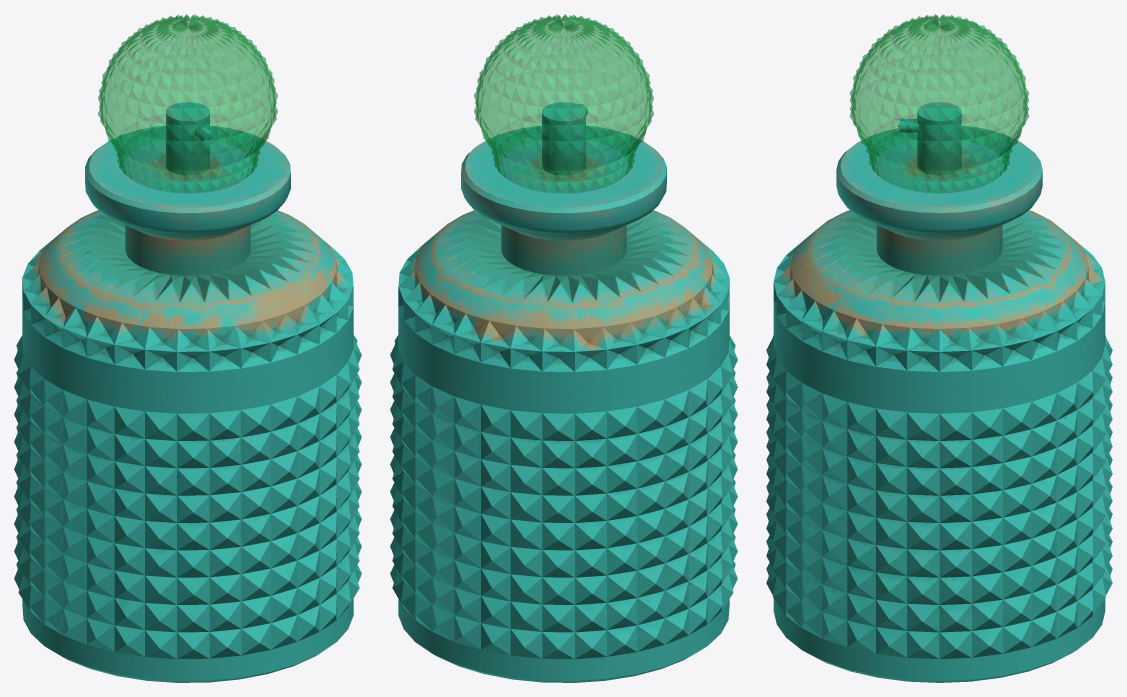
File: hero-bottle.glb
3 views of the same model, side by side, from view 1: azimuth 30°, elevation 25°; view 2: azimuth 150°, elevation 25°; view 3: azimuth 270°, elevation 25° (orthographic).
Parts seen in each view (by area): view 1: Cylinder_Material.001_0, Sphere_Material.003_0; view 2: Cylinder_Material.001_0, Sphere_Material.003_0; view 3: Cylinder_Material.001_0, Sphere_Material.003_0.
Boxes of the visible parts, x1=… form: Cylinder_Material.001_0: x1=14, y1=102, x2=361, y2=682; Sphere_Material.003_0: x1=98, y1=14, x2=277, y2=192; Cylinder_Material.001_0: x1=390, y1=102, x2=737, y2=682; Sphere_Material.003_0: x1=474, y1=14, x2=653, y2=192; Cylinder_Material.001_0: x1=766, y1=102, x2=1112, y2=682; Sphere_Material.003_0: x1=850, y1=14, x2=1028, y2=192.
Size of the model in its own units: 0.3875 by 0.7317 by 0.3875.
2 materials, 2 textured.
